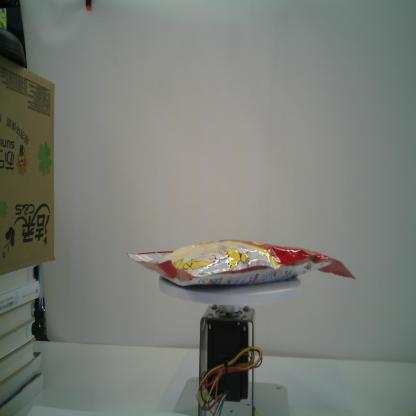Instant Drink: (125, 238, 358, 292)
